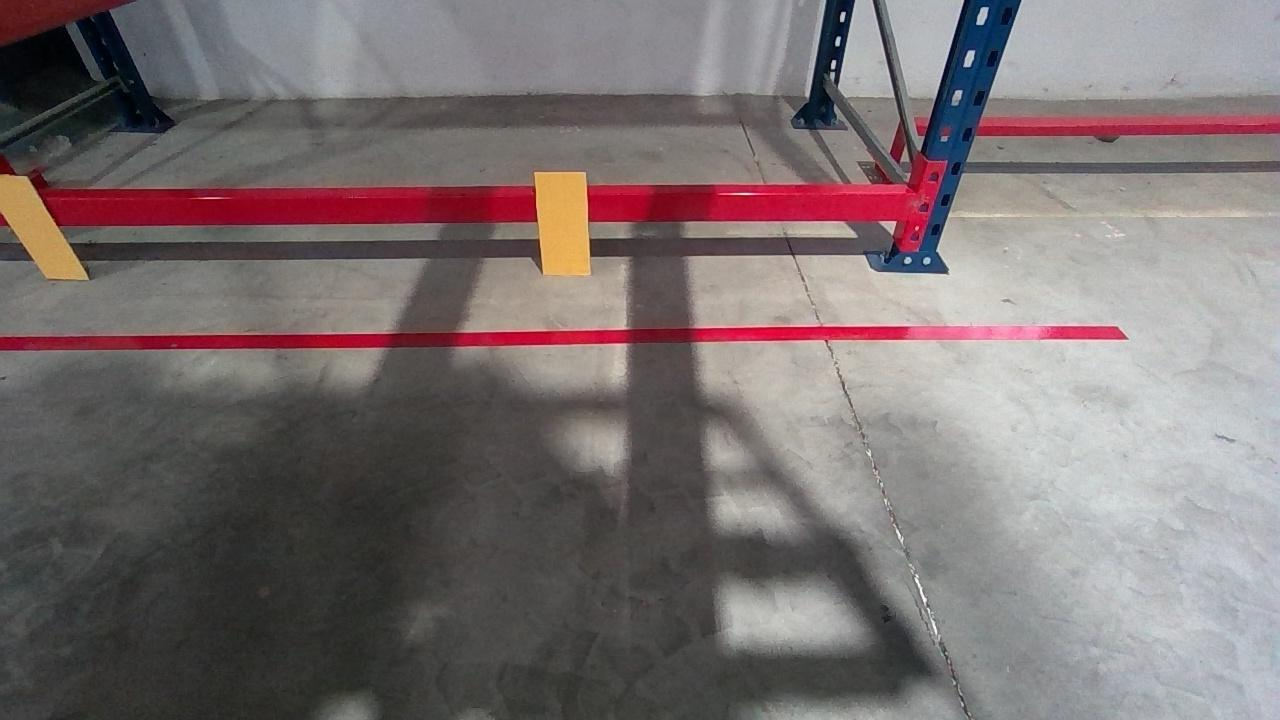h_rack: (2, 192, 911, 226)
orange_strip: (0, 172, 88, 280), (532, 170, 588, 275)
red_line: (0, 322, 1122, 350)
